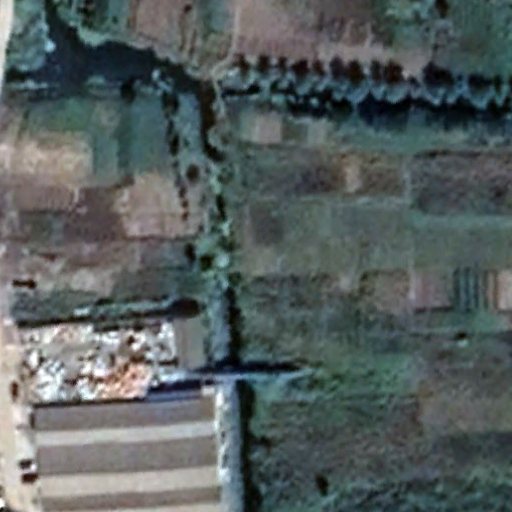msw: (24, 321, 175, 403)
